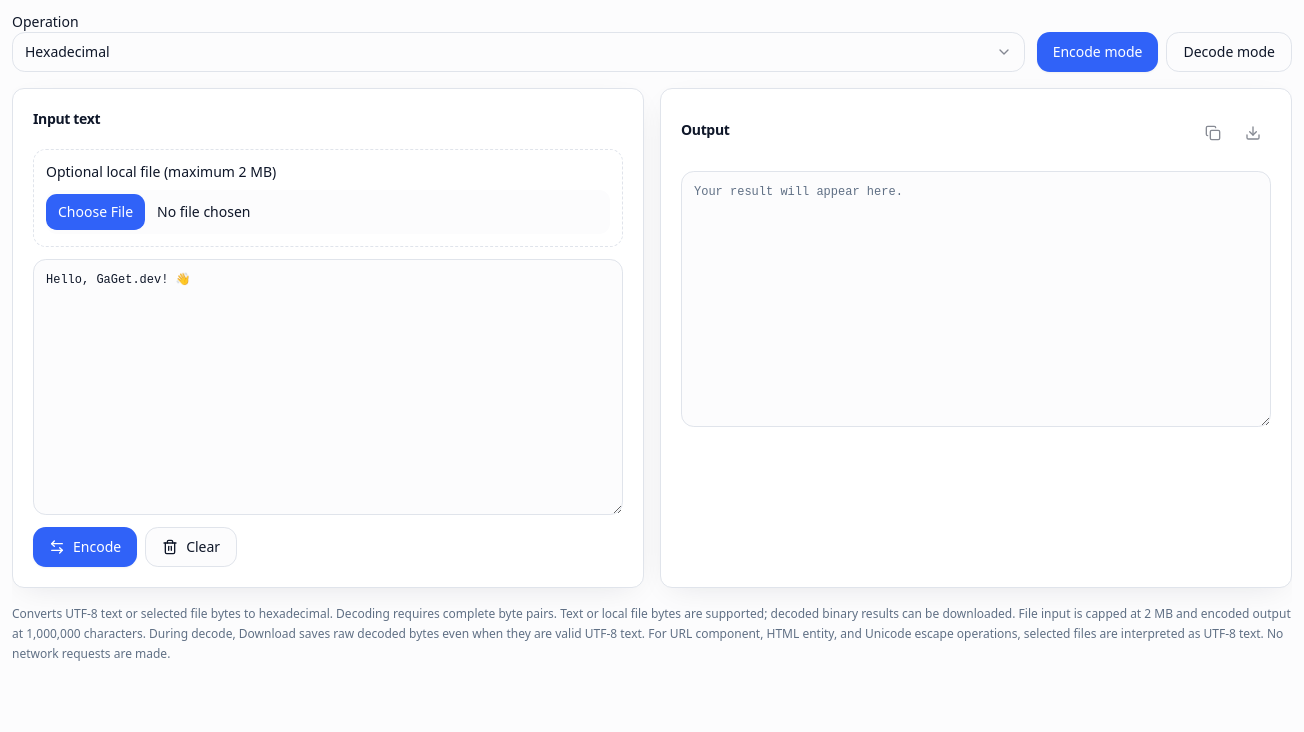
preserves non-UTF-8 decoded bytes for binary download
This screenshot has width=1304, height=732.
Step 1. Click the button "Decode mode" → (1229, 52), box [1166,32,1292,72]
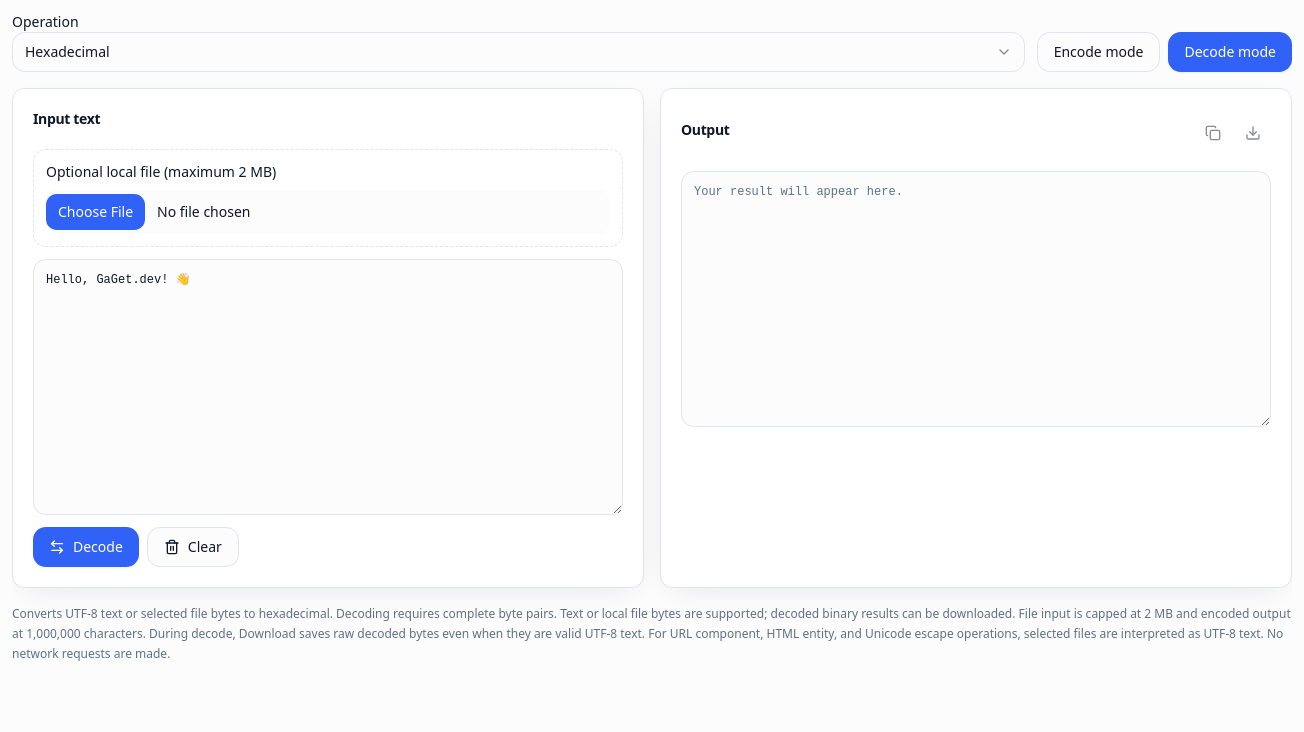
Step 2. Replace the text in the text box named "Encoding input" with "ff00" → (328, 387), box [33,259,623,515]
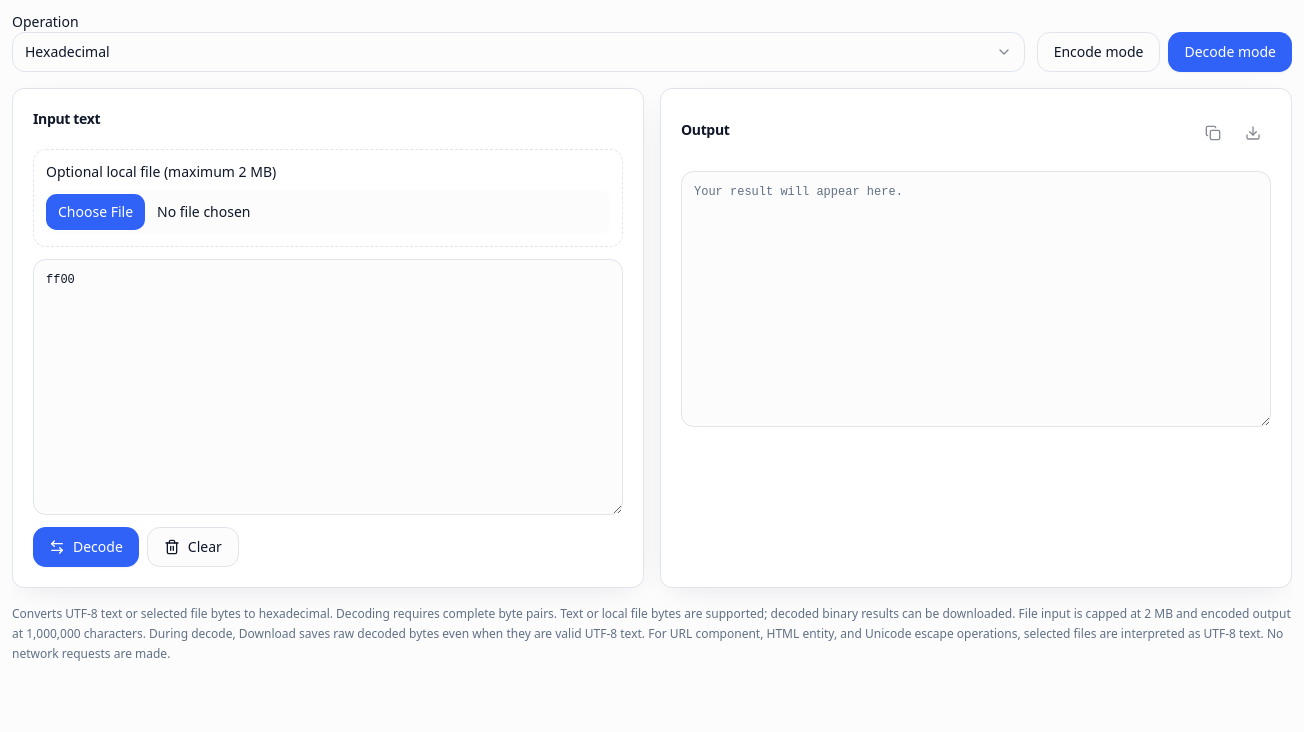
Step 3. Click the button "Decode" → (86, 547), box [33,527,139,567]
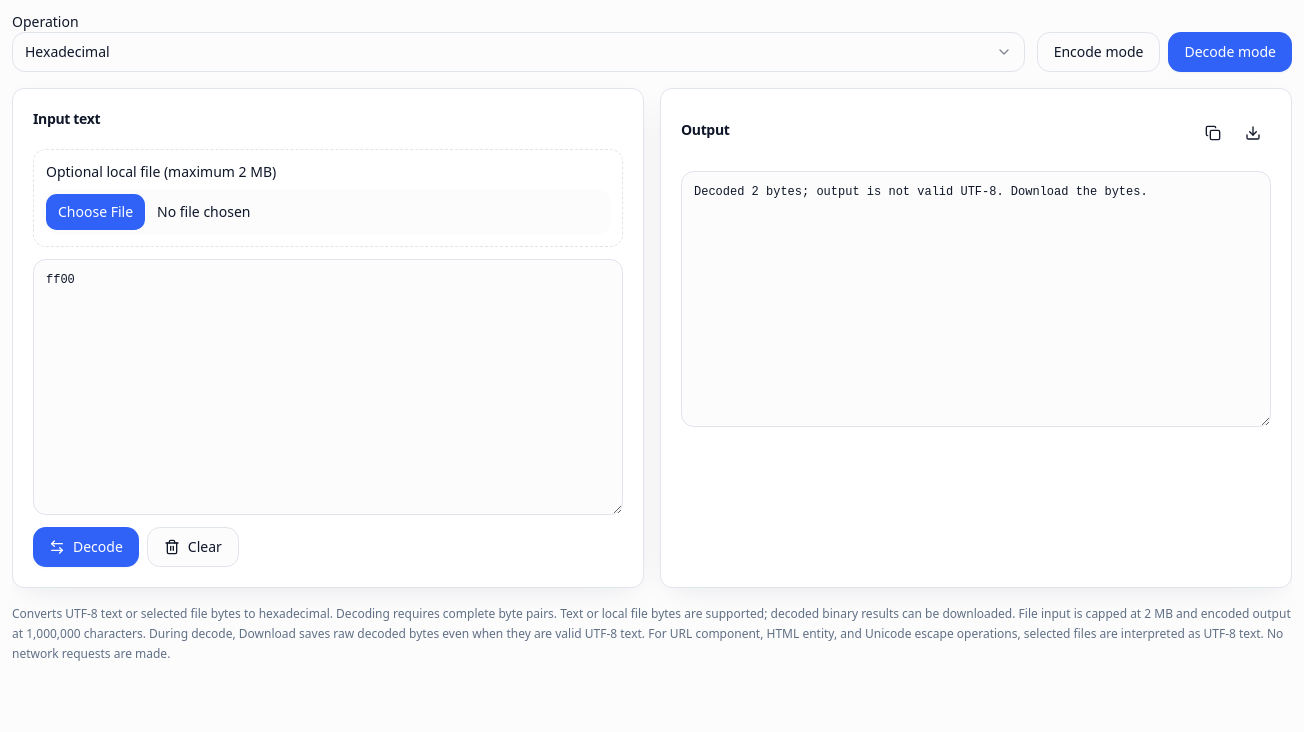
Now the button named "Download encoding output or decoded bytes" is enabled, box [1235,115,1271,151]
